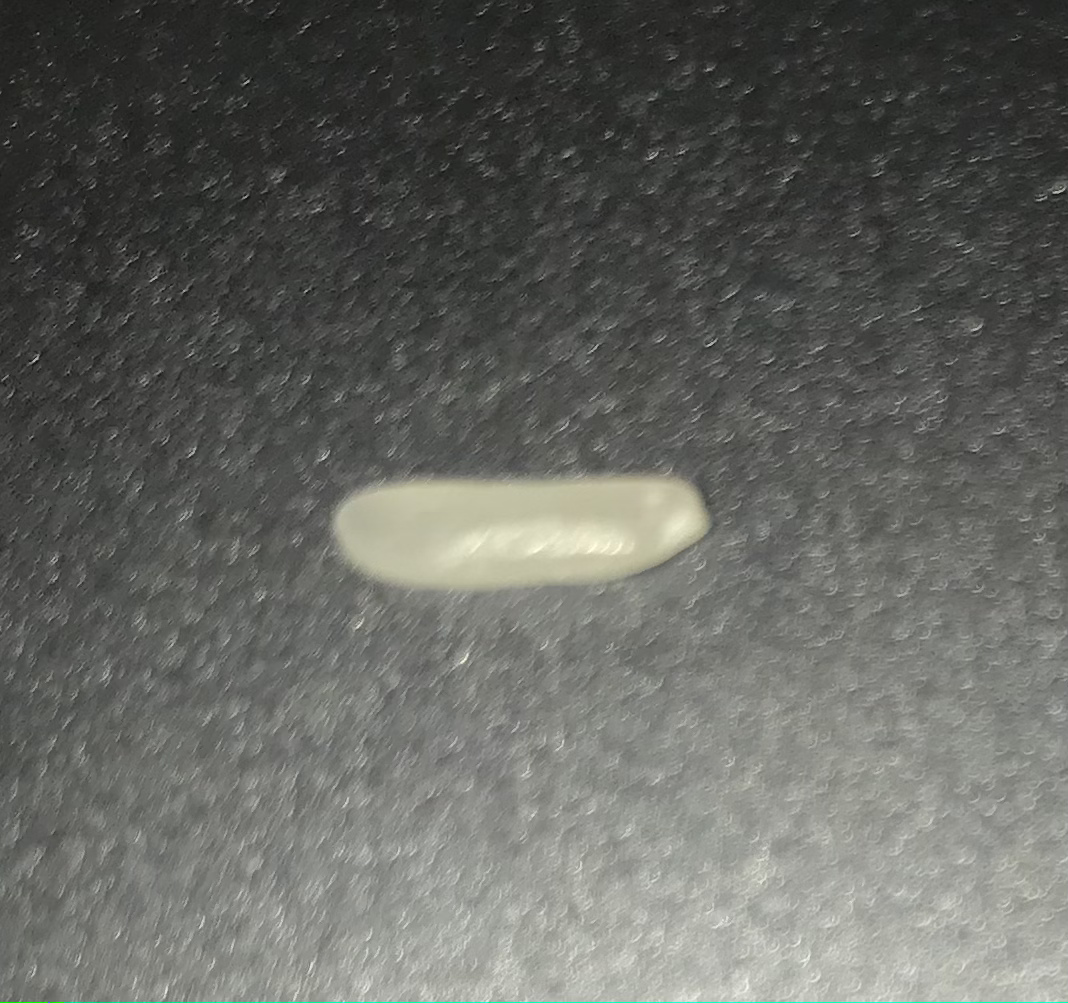Gao Thom My: (330, 463, 714, 587)
